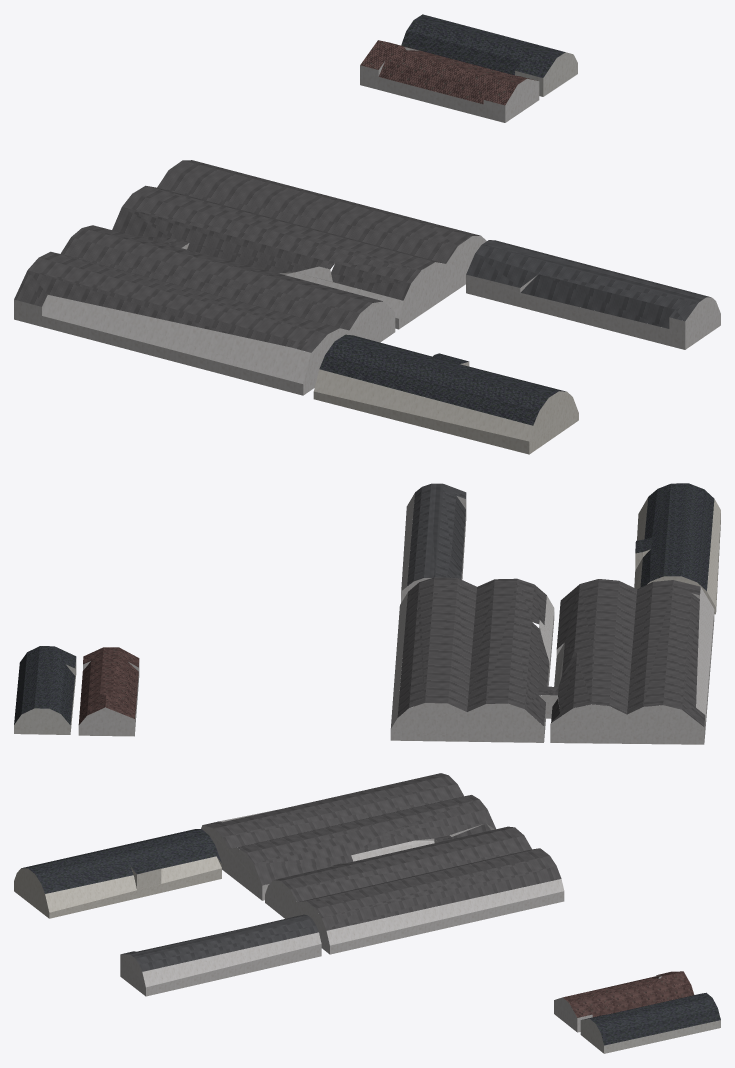
3 views of the same model, one above another, from view 1: azimuth 30°, elevation 25°; view 2: azimuth 150°, elevation 25°; view 3: azimuth 270°, elevation 25° (orthographic). The views are drawn at different scales.
Parts seen in each view (by area): view 1: bldg_6003921260_roof, bldg_6003921260, bldg_6003921264_roof, bldg_6003921272_roof, bldg_6003921264, bldg_6003921276_roof, bldg_6003921272, bldg_6003921277_roof, bldg_6003921276, bldg_6003921277; view 2: bldg_6003921260_roof, bldg_6003921260, bldg_6003921264_roof, bldg_6003921272_roof, bldg_6003921277_roof, bldg_6003921276_roof, bldg_6003921264, bldg_6003921276, bldg_6003921277, bldg_6003921272; view 3: bldg_6003921260_roof, bldg_6003921260, bldg_6003921264_roof, bldg_6003921264, bldg_6003921272, bldg_6003921272_roof, bldg_6003921277_roof, bldg_6003921276_roof, bldg_6003921277, bldg_6003921276.
Boxes of the visible parts, x1,y1,x2,y2 form: bldg_6003921260_roof: [14, 160, 480, 352]; bldg_6003921260: [14, 235, 486, 395]; bldg_6003921264_roof: [319, 334, 565, 425]; bldg_6003921272_roof: [466, 240, 710, 328]; bldg_6003921264: [313, 361, 578, 454]; bldg_6003921276_roof: [360, 40, 537, 105]; bldg_6003921272: [466, 240, 720, 349]; bldg_6003921277_roof: [401, 14, 565, 77]; bldg_6003921276: [360, 47, 539, 122]; bldg_6003921277: [515, 52, 577, 96]; bldg_6003921260_roof: [397, 577, 705, 726]; bldg_6003921260: [390, 587, 714, 744]; bldg_6003921264_roof: [635, 483, 714, 590]; bldg_6003921272_roof: [407, 483, 466, 586]; bldg_6003921277_roof: [14, 646, 76, 724]; bldg_6003921276_roof: [78, 647, 139, 724]; bldg_6003921264: [634, 497, 720, 614]; bldg_6003921276: [78, 661, 139, 736]; bldg_6003921277: [14, 659, 76, 734]; bldg_6003921272: [401, 493, 466, 602]; bldg_6003921260_roof: [202, 773, 561, 930]; bldg_6003921260: [201, 809, 564, 954]; bldg_6003921264_roof: [21, 829, 221, 893]; bldg_6003921264: [14, 856, 221, 918]; bldg_6003921272: [120, 932, 321, 996]; bldg_6003921272_roof: [121, 914, 318, 971]; bldg_6003921277_roof: [582, 992, 720, 1045]; bldg_6003921276_roof: [563, 971, 694, 1017]; bldg_6003921277: [580, 1019, 720, 1053]; bldg_6003921276: [554, 975, 661, 1032].
Bounding box in the file's own units: 91.43 × 5.82 × 106.
7 materials, 7 textured.
